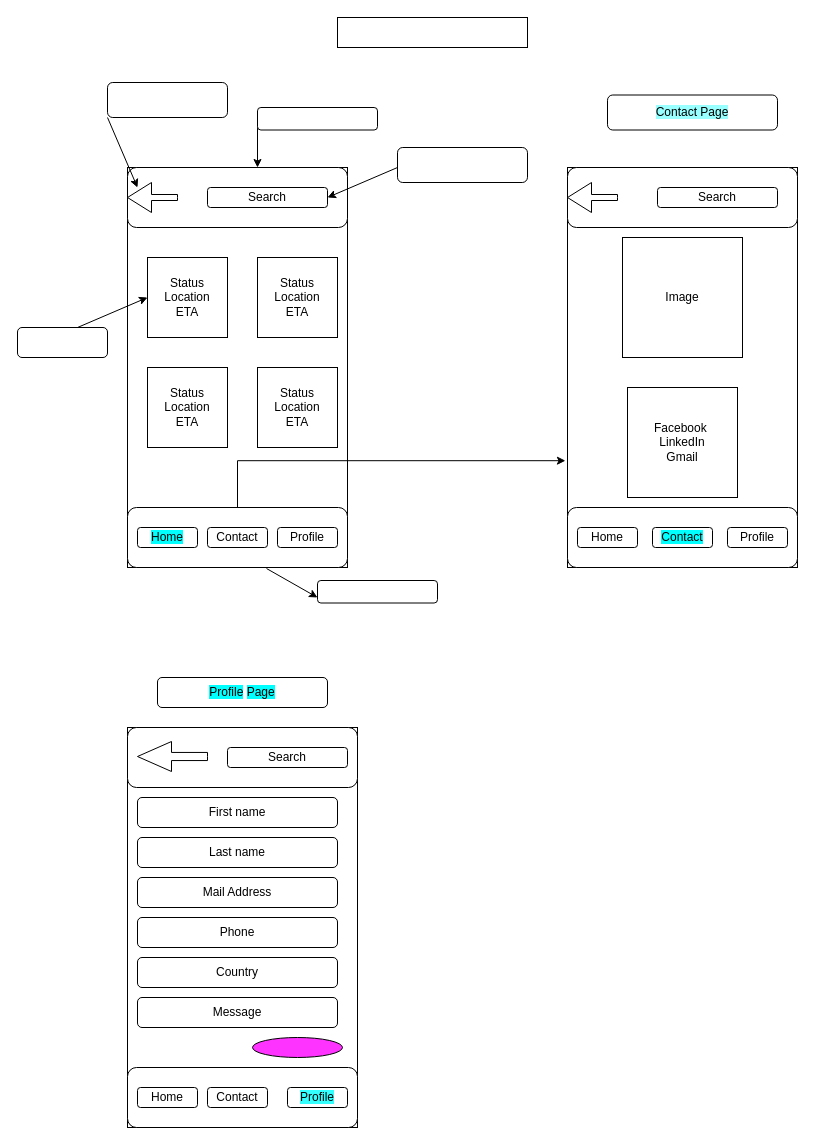
Image size: 815x1145. Some labels were removed from this diagram. The shapes that lost their labels are listed below. From the top down, each one's centre as x and y in pixels, then its label:
At point 432,32: "Package Tracking App".
At point 167,100: "Back to main page".
At point 317,118: "Header Component".
At point 462,164: "Search Component".
At point 62,342: "Card Component".
At point 377,591: "Footer Component".
At point 297,1047: "Submit".
